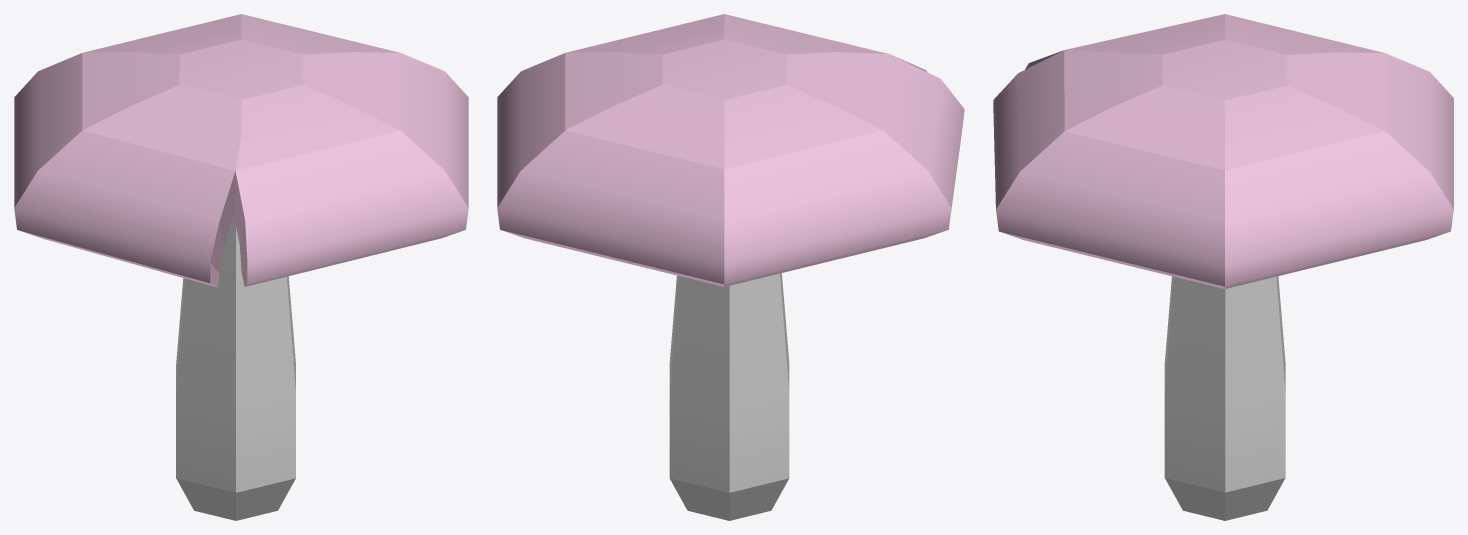
File: mushroom8.fbx
The picture shows the model from 3 angles, left to right: view 1: azimuth 30°, elevation 25°; view 2: azimuth 150°, elevation 25°; view 3: azimuth 270°, elevation 25°; orthographic projection.
Parts seen in each view (by area): view 1: pCylinder36, pCylinder37; view 2: pCylinder36, pCylinder37; view 3: pCylinder36, pCylinder37.
Part boxes in pixels (x1,y1,x2,y2): pCylinder36: (14, 14, 468, 287); pCylinder37: (176, 214, 295, 520); pCylinder36: (497, 14, 964, 286); pCylinder37: (669, 273, 789, 520); pCylinder36: (993, 14, 1453, 288); pCylinder37: (1164, 276, 1285, 520).
Size of the model in its own units: 4.06 by 3.69 by 3.54.
